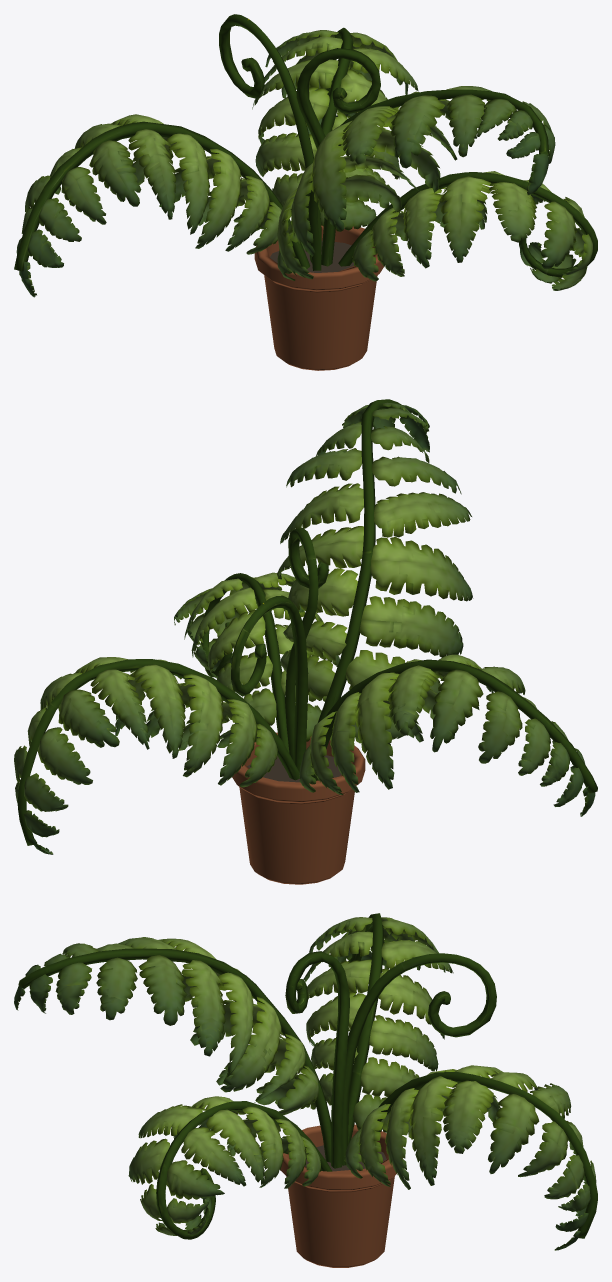
File: plant2.lod1.glb
The picture shows the model from 3 angles, top to bottom: view 1: azimuth 30°, elevation 25°; view 2: azimuth 150°, elevation 25°; view 3: azimuth 270°, elevation 25°; orthographic projection. The views are drawn at different scales.
Parts seen in each view (by area): view 1: Potted Plant - Bracken.001; view 2: Potted Plant - Bracken.001; view 3: Potted Plant - Bracken.001.
Boxes of the visible parts, x1=… form: Potted Plant - Bracken.001: x1=14, y1=14, x2=597, y2=370; Potted Plant - Bracken.001: x1=14, y1=399, x2=597, y2=884; Potted Plant - Bracken.001: x1=14, y1=913, x2=597, y2=1267.
Size of the model in its own units: 0.6265 by 0.4172 by 0.6785.
3 materials, 1 textured.
